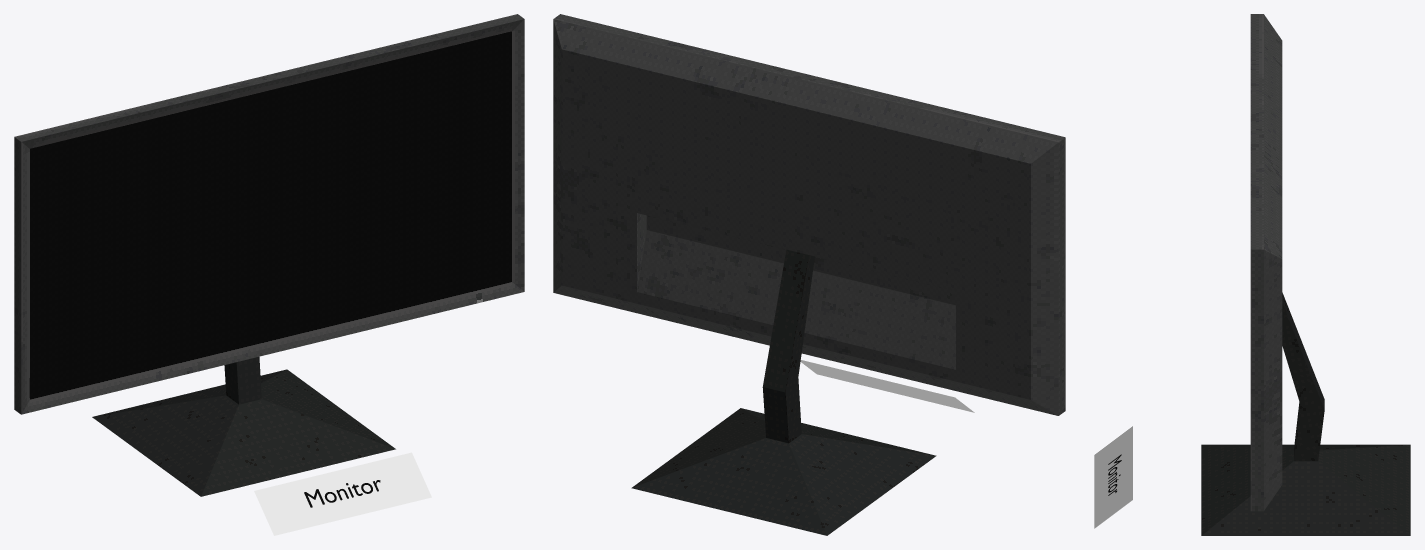
The model's file is monitor.gltf.
3 views of the same model, side by side, from view 1: azimuth 30°, elevation 25°; view 2: azimuth 150°, elevation 25°; view 3: azimuth 270°, elevation 25° (orthographic). The views are drawn at different scales.
Visible parts, largest first — view 1: SM_PSX_Monitor_0, Plane; view 2: SM_PSX_Monitor_0, Plane; view 3: SM_PSX_Monitor_0, Plane.
Boxes of the visible parts, x1,y1,x2,y2 form: SM_PSX_Monitor_0: [14, 14, 524, 496]; Plane: [254, 452, 431, 535]; SM_PSX_Monitor_0: [553, 14, 1065, 535]; Plane: [800, 360, 974, 412]; SM_PSX_Monitor_0: [1201, 14, 1410, 535]; Plane: [1094, 426, 1132, 528].
Size of the model in its own units: 22.21 by 15.86 by 12.61.
3 materials, 1 textured.
